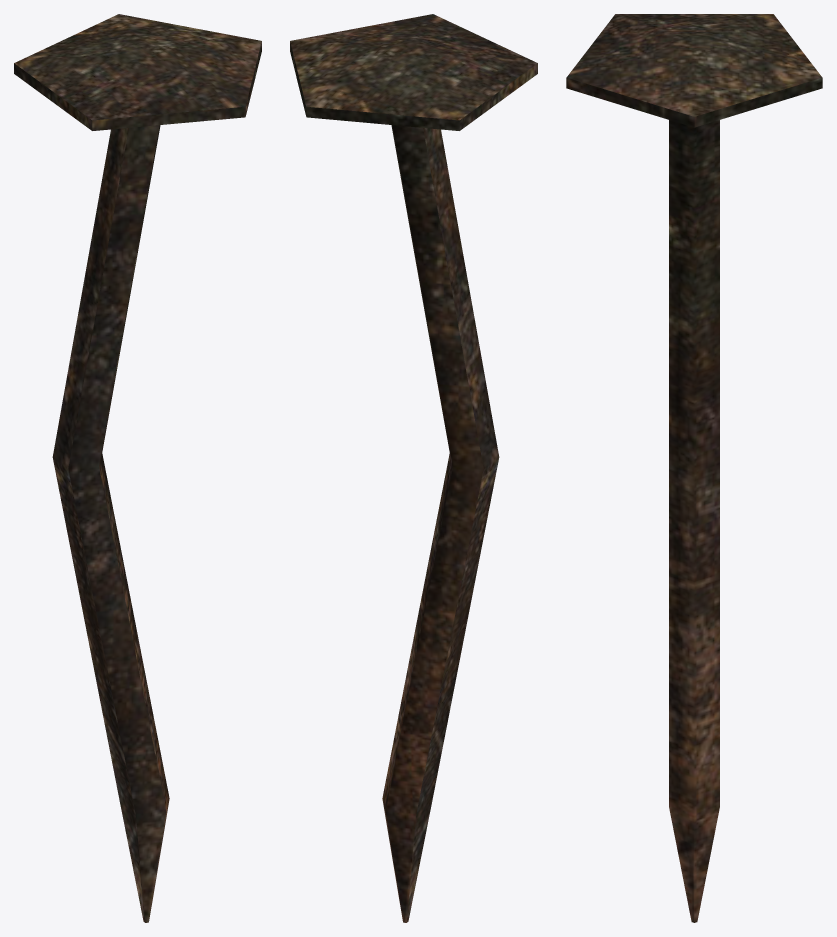
Rendered from Nail5.FBX.
3 renders of one model, left to right at view 1: azimuth 30°, elevation 25°; view 2: azimuth 150°, elevation 25°; view 3: azimuth 270°, elevation 25°, orthographic.
Visible parts, largest first — view 1: Nail5; view 2: Nail5; view 3: Nail5.
Part boxes in pixels (left/top/right/bottom): Nail5: left=14, top=14, right=261, bottom=922; Nail5: left=290, top=14, right=537, bottom=922; Nail5: left=566, top=14, right=822, bottom=922.
Size of the model in its own units: 5.34 by 21.19 by 5.62.
